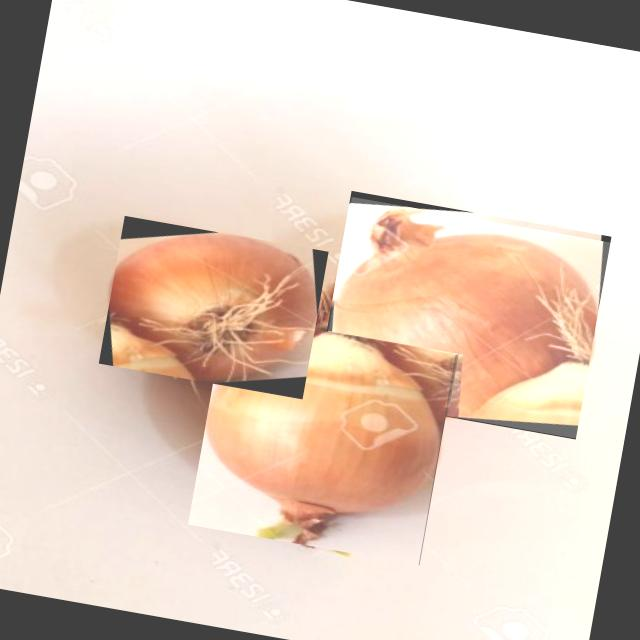healthy: (331, 207, 595, 417), (206, 332, 439, 544), (109, 232, 317, 381)
